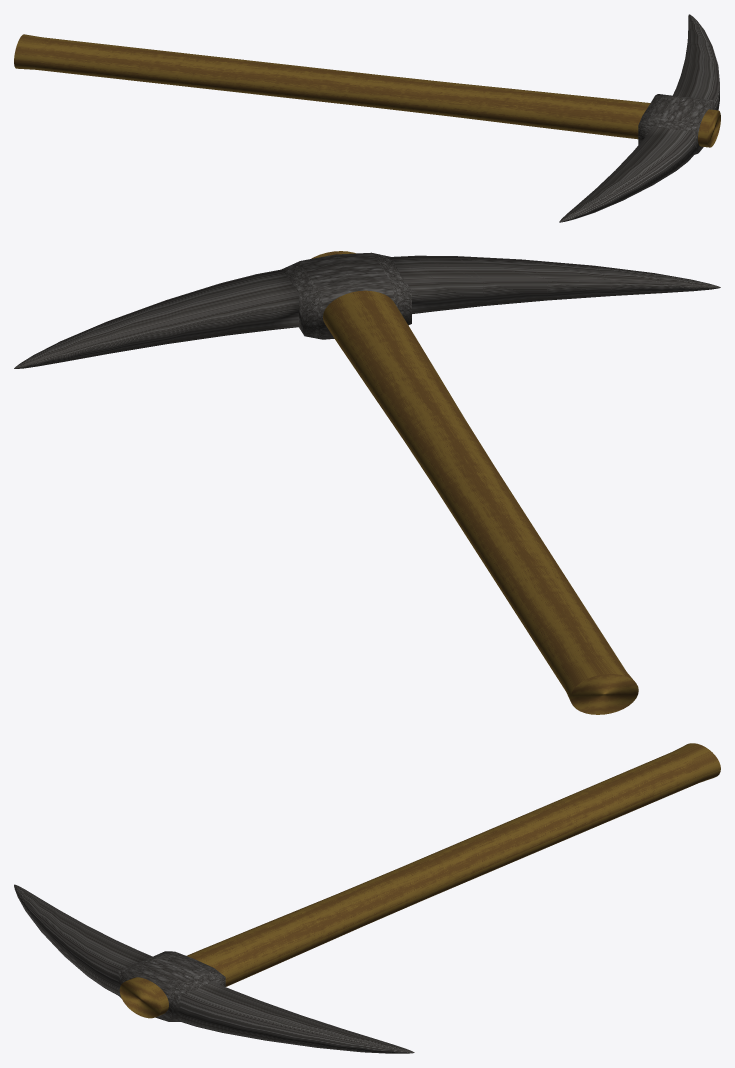
The model's file is pickaxe.glb.
3 views of the same model, one above another, from view 1: azimuth 30°, elevation 25°; view 2: azimuth 150°, elevation 25°; view 3: azimuth 270°, elevation 25° (orthographic). The views are drawn at different scales.
Visible parts, largest first — view 1: Cylinder, Cube; view 2: Cylinder, Cube; view 3: Cylinder, Cube.
Boxes of the visible parts, left/top/right/bottom form: Cylinder: left=14, top=34, right=720, bottom=147; Cube: left=559, top=14, right=719, bottom=222; Cylinder: left=311, top=251, right=638, bottom=714; Cube: left=14, top=252, right=720, bottom=368; Cylinder: left=119, top=743, right=720, bottom=1018; Cube: left=14, top=884, right=414, bottom=1053.
Size of the model in its own units: 1.87 by 0.1089 by 1.86.
Materials: 2 (2 with a texture image).
